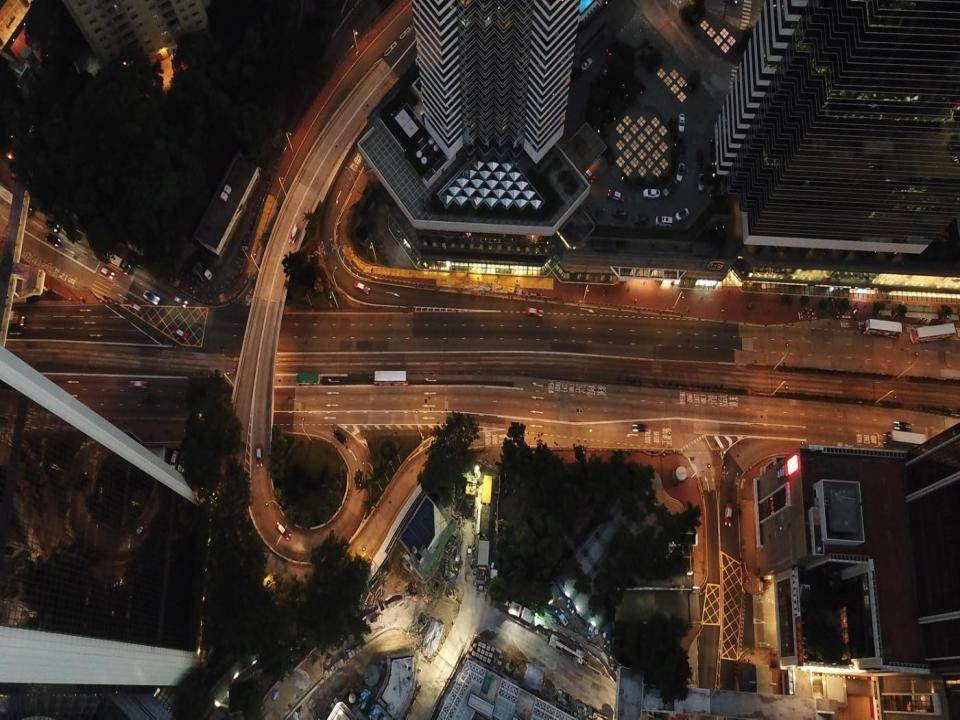bus: (910, 324, 957, 344), (882, 431, 925, 450), (862, 319, 902, 339), (102, 250, 130, 274), (373, 370, 408, 385), (1, 311, 24, 326)
car: (15, 199, 33, 218), (275, 521, 291, 540), (142, 290, 160, 304), (288, 224, 300, 244), (354, 280, 371, 294), (45, 234, 61, 248), (172, 294, 188, 308), (892, 420, 910, 432), (129, 301, 144, 315), (173, 327, 188, 341), (44, 219, 60, 232), (98, 266, 114, 279), (333, 430, 347, 444), (255, 443, 263, 466), (129, 379, 147, 389), (525, 307, 543, 317), (354, 469, 362, 489), (632, 423, 648, 433)
truck: (295, 374, 321, 386)
van: (177, 452, 186, 472), (169, 450, 178, 469)
